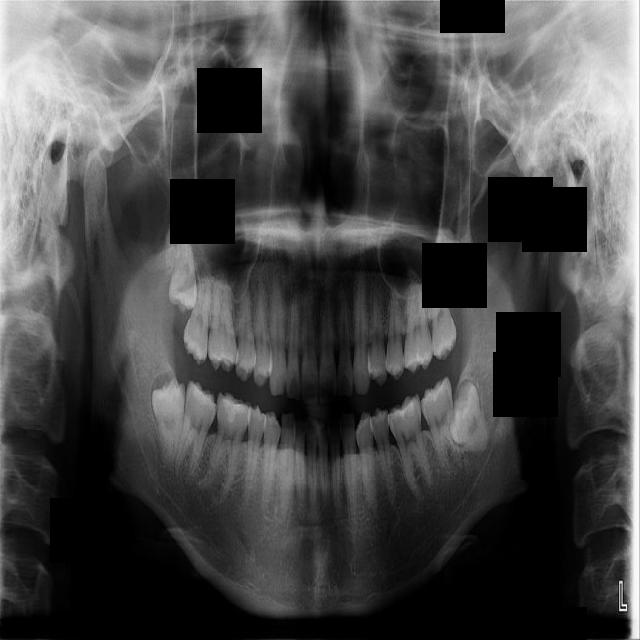3M ESPE Implant: (169, 232, 197, 314)
73: (587, 584, 592, 592)
BioHorizons Implant: (429, 250, 457, 362)
BioLife Implant: (433, 221, 477, 303)
Biomet 3i Implant: (438, 379, 491, 457)
Blue Sky Bio Implant: (417, 375, 464, 474)
Caries: (181, 259, 214, 366)
Implant: (173, 380, 221, 482)
Keystone Dental Implant: (146, 376, 187, 463)
